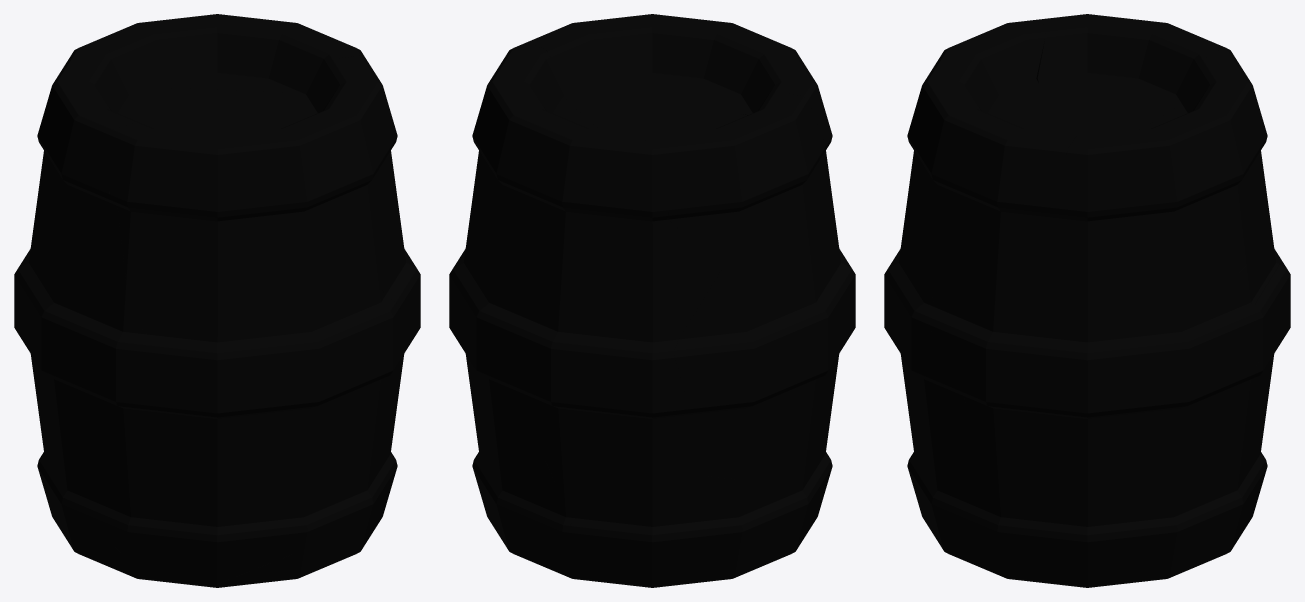
The model's file is wooden_barrel_pieces.fbx.
3 views of the same model, side by side, from view 1: azimuth 30°, elevation 25°; view 2: azimuth 150°, elevation 25°; view 3: azimuth 270°, elevation 25° (orthographic).
Parts seen in each view (by area): view 1: wooden_barrel.002, wooden_barrel.005, wooden_barrel.001, wooden_barrel.008, wooden_barrel.003, wooden_barrel.007, wooden_barrel.012, wooden_barrel.006; view 2: wooden_barrel.008, wooden_barrel.001, wooden_barrel.003, wooden_barrel.012, wooden_barrel.011, wooden_barrel.005, wooden_barrel.010, wooden_barrel.009, wooden_barrel.004, wooden_barrel.006, wooden_barrel.002; view 3: wooden_barrel.006, wooden_barrel.004, wooden_barrel.005, wooden_barrel.003, wooden_barrel.001, wooden_barrel.007, wooden_barrel.002, wooden_barrel.009, wooden_barrel.011.
Boxes of the visible parts, bbox=[...] form: wooden_barrel.002: bbox=[86, 289, 406, 583]; wooden_barrel.005: bbox=[109, 55, 397, 337]; wooden_barrel.001: bbox=[37, 49, 336, 322]; wooden_barrel.008: bbox=[14, 200, 147, 476]; wooden_barrel.003: bbox=[73, 14, 365, 92]; wooden_barrel.007: bbox=[97, 366, 399, 587]; wooden_barrel.012: bbox=[37, 415, 108, 566]; wooden_barrel.006: bbox=[382, 153, 420, 383]; wooden_barrel.008: bbox=[673, 246, 855, 479]; wooden_barrel.001: bbox=[545, 49, 838, 269]; wooden_barrel.003: bbox=[472, 42, 668, 265]; wooden_barrel.012: bbox=[557, 456, 819, 587]; wooden_barrel.011: bbox=[486, 218, 721, 358]; wooden_barrel.005: bbox=[527, 14, 834, 213]; wooden_barrel.010: bbox=[547, 352, 704, 522]; wooden_barrel.009: bbox=[475, 305, 637, 463]; wooden_barrel.004: bbox=[467, 358, 572, 572]; wooden_barrel.006: bbox=[449, 154, 489, 363]; wooden_barrel.002: bbox=[812, 249, 855, 502]; wooden_barrel.006: bbox=[929, 159, 1262, 477]; wooden_barrel.004: bbox=[1026, 362, 1267, 587]; wooden_barrel.005: bbox=[900, 19, 1074, 296]; wooden_barrel.003: bbox=[1065, 47, 1267, 273]; wooden_barrel.001: bbox=[1036, 14, 1223, 136]; wooden_barrel.007: bbox=[913, 403, 1066, 585]; wooden_barrel.002: bbox=[884, 249, 965, 484]; wooden_barrel.009: bbox=[1254, 251, 1290, 412]; wooden_barrel.011: bbox=[1238, 186, 1279, 304].
Size of the model in its own units: 204 by 243 by 204.
